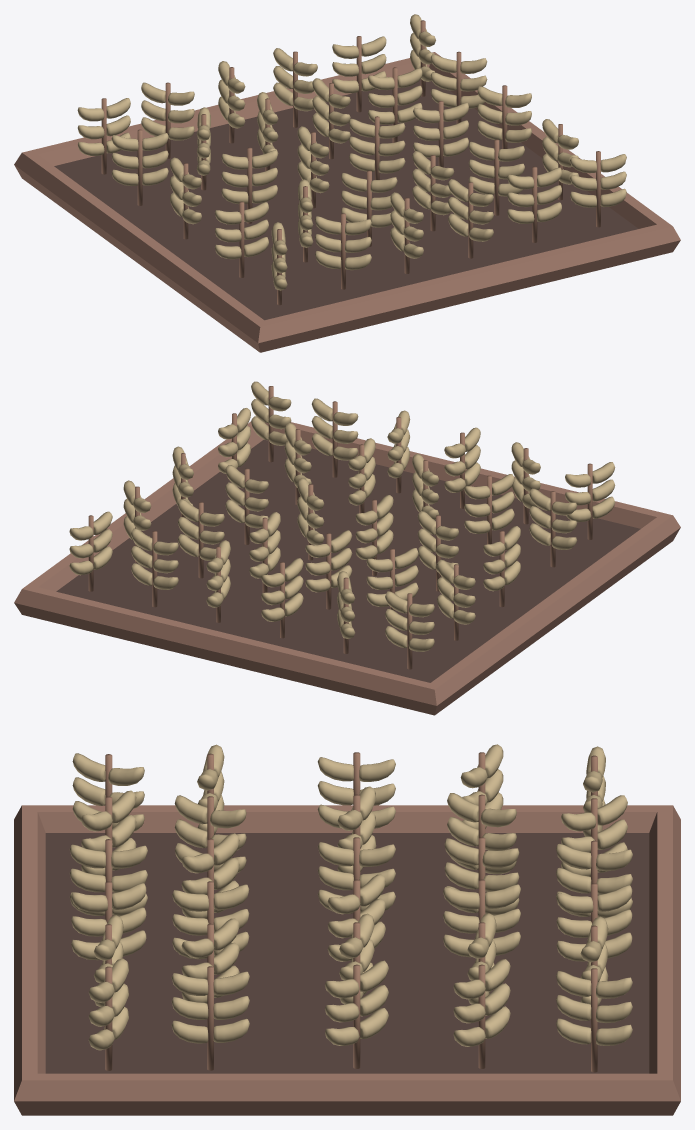
The model's file is Farm.fbx.
The picture shows the model from 3 angles, top to bottom: view 1: azimuth 30°, elevation 25°; view 2: azimuth 150°, elevation 25°; view 3: azimuth 270°, elevation 25°; orthographic projection. The views are drawn at different scales.
Parts seen in each view (by area): view 1: Farm, Row 3, Row 5, Row 1, Row 4, Row 2; view 2: Farm, Row 1, Row 5, Row 2, Row 4, Row 3; view 3: Farm, Row 4, Row 2, Row 3, Row 1, Row 5.
Part boxes in pixels (bbox=[...]): Farm: bbox=[14, 52, 680, 352]; Row 3: bbox=[170, 85, 531, 239]; Row 5: bbox=[271, 151, 626, 305]; Row 1: bbox=[77, 14, 435, 174]; Row 4: bbox=[215, 119, 578, 277]; Row 2: bbox=[111, 51, 487, 205]; Farm: bbox=[14, 421, 680, 715]; Row 1: bbox=[69, 511, 434, 669]; Row 5: bbox=[251, 381, 615, 539]; Row 2: bbox=[123, 480, 475, 640]; Row 4: bbox=[218, 408, 577, 567]; Row 3: bbox=[172, 446, 520, 607]; Farm: bbox=[14, 805, 680, 1115]; Row 4: bbox=[171, 744, 249, 1070]; Row 2: bbox=[443, 744, 520, 1068]; Row 3: bbox=[317, 752, 395, 1068]; Row 1: bbox=[556, 746, 632, 1072]; Row 5: bbox=[69, 753, 147, 1070].
Bounding box in the file's own units: 882 × 174 × 882.
